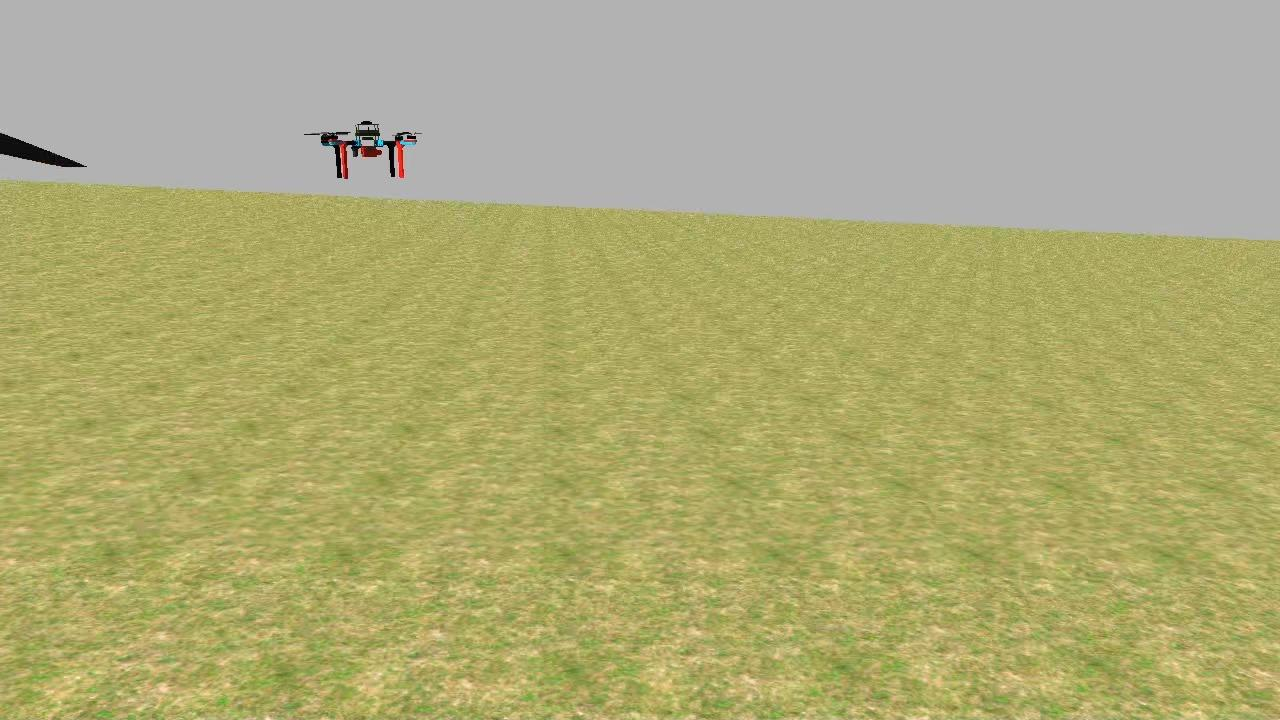UAV: (308, 113, 422, 193)
